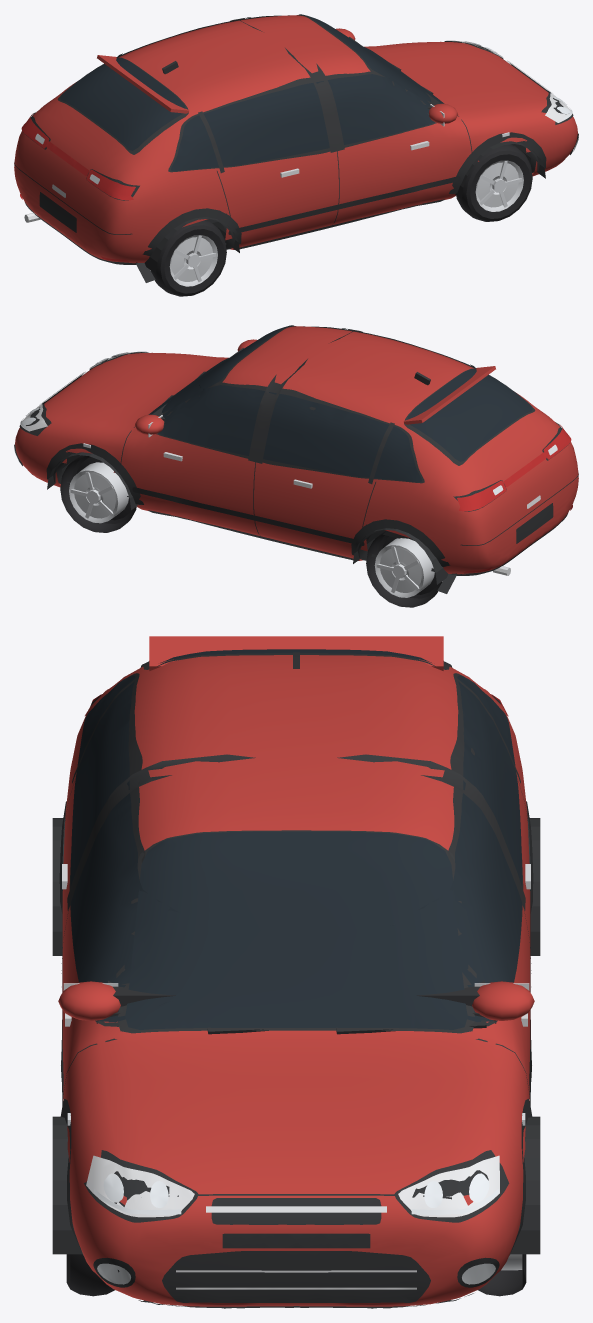
The model's file is lutece.glb.
3 views of the same model, one above another, from view 1: azimuth 30°, elevation 25°; view 2: azimuth 150°, elevation 25°; view 3: azimuth 270°, elevation 25° (orthographic). The views are drawn at different scales.
Visible parts, largest first — view 1: Body, Glass-1, RearGlass, WheelFR, WheelRR, Windshield, WinFrame-1, ArchTrim-1.001, Bpillar-1, Rub-1, ArchTrim-1, TailLamp (+9 smaller); view 2: Body, Glass1, RearGlass, WheelFL, WheelRL, WinFrame1, Windshield, ArchTrim1.001, Bpillar1, Rub1, ArchTrim1, TailLamp (+9 smaller); view 3: Body, Windshield, Glass-1, Glass1, Intake, Spoiler, HeadReflector, GrilleUpper, HeadBezel, ArchLiner, ArchLiner.001, PlateF (+19 smaller).
Boxes of the visible parts, bbox=[...] form: Body: bbox=[14, 15, 577, 263]; Glass-1: bbox=[171, 73, 434, 171]; RearGlass: bbox=[60, 57, 185, 150]; WheelFR: bbox=[456, 144, 532, 221]; WheelRR: bbox=[150, 219, 226, 296]; Windshield: bbox=[299, 14, 444, 103]; WinFrame-1: bbox=[168, 71, 436, 172]; ArchTrim-1.001: bbox=[136, 208, 241, 282]; Bpillar-1: bbox=[285, 48, 344, 152]; Rub-1: bbox=[228, 176, 460, 234]; ArchTrim-1: bbox=[449, 132, 546, 193]; TailLamp: bbox=[21, 113, 135, 200]; Body: bbox=[15, 326, 578, 574]; Glass1: bbox=[158, 385, 421, 482]; RearGlass: bbox=[407, 368, 532, 461]; WheelFL: bbox=[60, 455, 136, 532]; WheelRL: bbox=[366, 530, 442, 607]; WinFrame1: bbox=[156, 382, 424, 483]; Windshield: bbox=[148, 325, 293, 414]; ArchTrim1.001: bbox=[351, 519, 457, 593]; Bpillar1: bbox=[248, 359, 307, 463]; Rub1: bbox=[132, 487, 364, 545]; ArchTrim1: bbox=[46, 443, 143, 504]; TailLamp: bbox=[457, 424, 571, 511]; Body: bbox=[62, 655, 530, 1306]; Windshield: bbox=[125, 831, 467, 1029]; Glass-1: bbox=[71, 675, 179, 1022]; Glass1: bbox=[390, 675, 521, 1022]; Intake: bbox=[162, 1251, 430, 1302]; Spoiler: bbox=[149, 636, 443, 670]; HeadReflector: bbox=[86, 1155, 499, 1217]; GrilleUpper: bbox=[211, 1198, 381, 1224]; HeadBezel: bbox=[84, 1150, 509, 1222]; ArchLiner: bbox=[510, 1116, 540, 1254]; ArchLiner.001: bbox=[52, 1116, 82, 1254]; PlateF: bbox=[222, 1233, 370, 1248].
Bounding box in the file's own units: 4.06 × 1.5 × 1.78.
